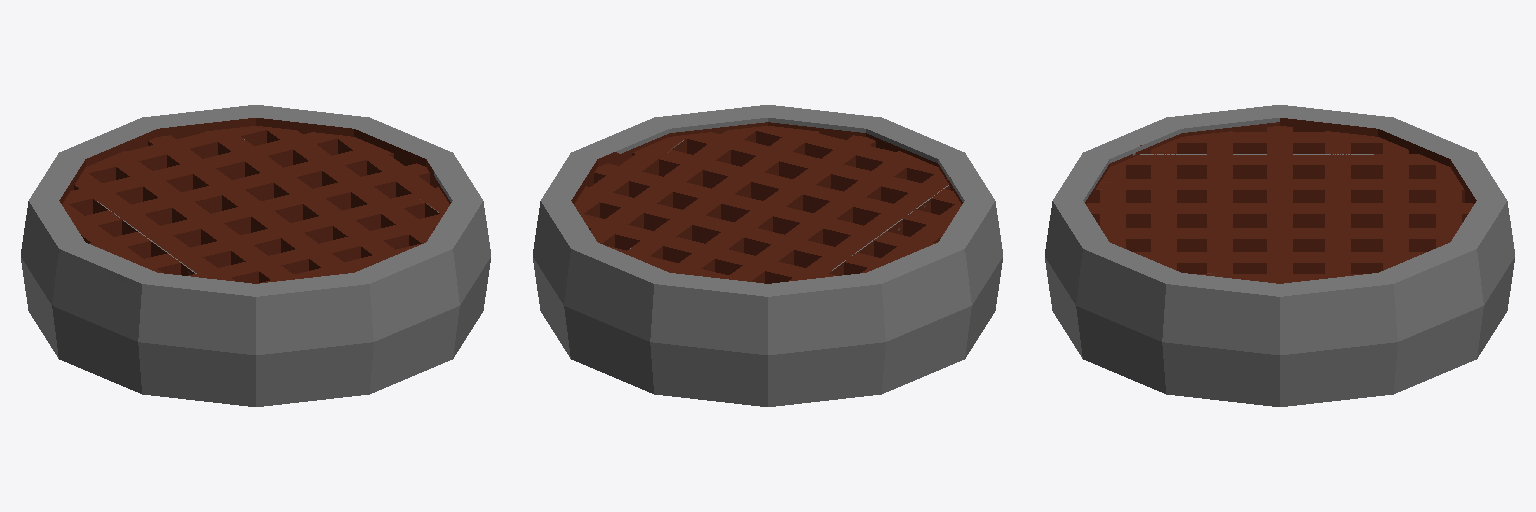
3 views of the same model, side by side, from view 1: azimuth 30°, elevation 25°; view 2: azimuth 150°, elevation 25°; view 3: azimuth 270°, elevation 25° (orthographic).
Parts seen in each view (by area): view 1: 立方体.004; view 2: 立方体.004; view 3: 立方体.004.
Part boxes in pixels (left/top/right/bottom): 立方体.004: left=21, top=105, right=490, bottom=406; 立方体.004: left=533, top=105, right=1002, bottom=406; 立方体.004: left=1045, top=105, right=1514, bottom=406.
Bounding box in the file's own units: 2 × 0.5176 × 2.
1 materials, 1 textured.